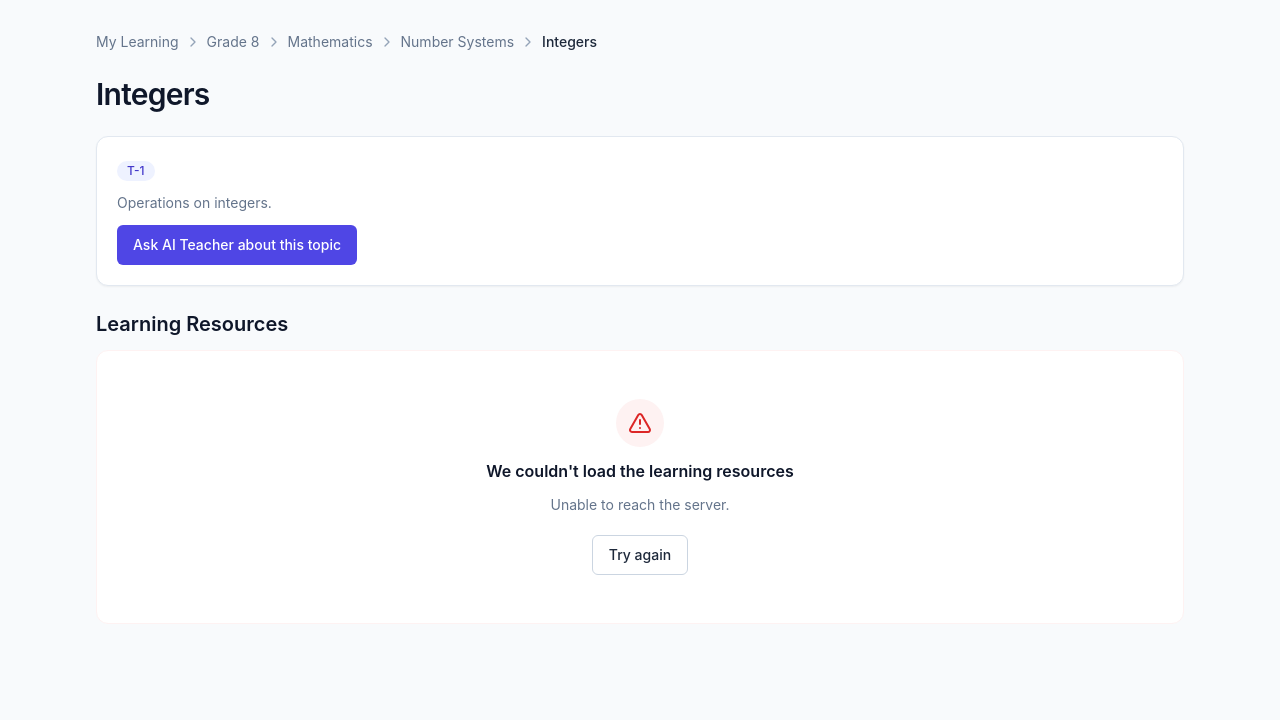
it: Topic Detail (TopicDetailPage) › shows a resource API error and retries only the resource request
Expected: the heading "Integers" is shown, [96, 76, 210, 112]
Expected: the message "We couldn't load the learning resources Unable to reach the server. Try again" is shown, [96, 350, 1184, 624]
Click the button "Try again".
click(640, 555)  # box [592, 535, 688, 575]
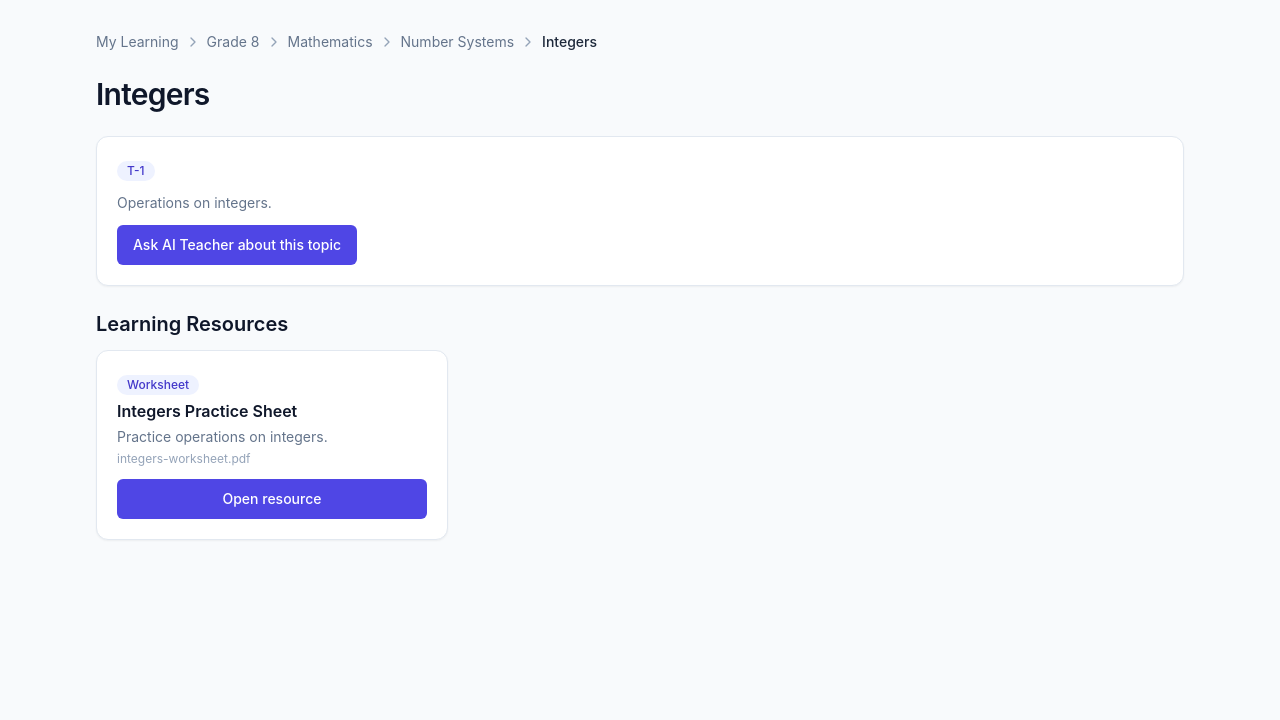
Result: the heading "Integers Practice Sheet" is shown at [117, 401, 297, 421]
